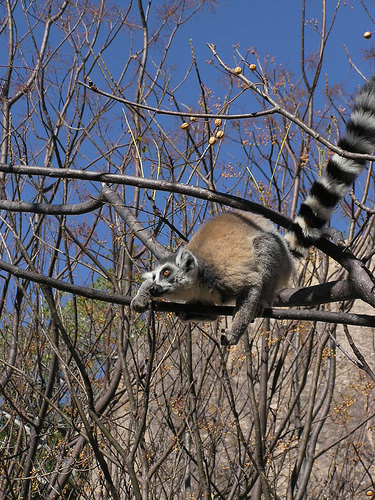cat: (128, 78, 373, 346)
